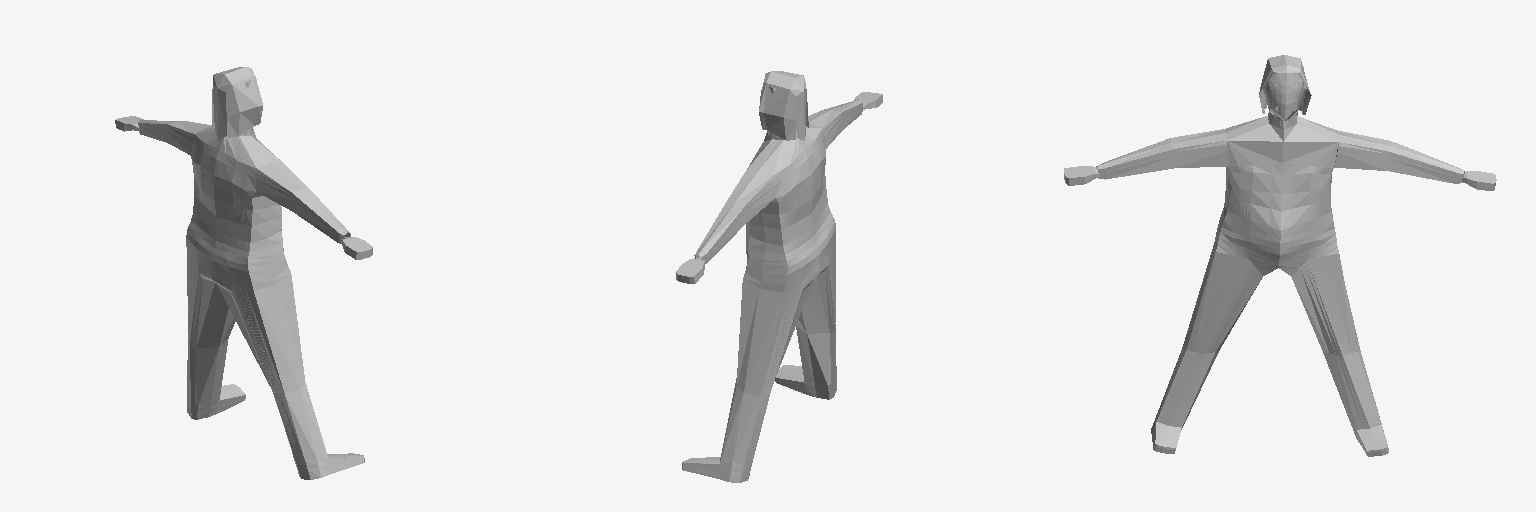
Rendered from buto ijo ku.obj.
3 renders of one model, left to right at view 1: azimuth 30°, elevation 25°; view 2: azimuth 150°, elevation 25°; view 3: azimuth 270°, elevation 25°, orthographic.
Visible parts, largest first — view 1: Cube; view 2: Cube; view 3: Cube.
Boxes of the visible parts, x1,y1,x2,y2 form: Cube: [115, 67, 372, 479]; Cube: [675, 71, 882, 482]; Cube: [1064, 55, 1496, 456].
Size of the model in its own units: 5.49 by 20.83 by 21.69.